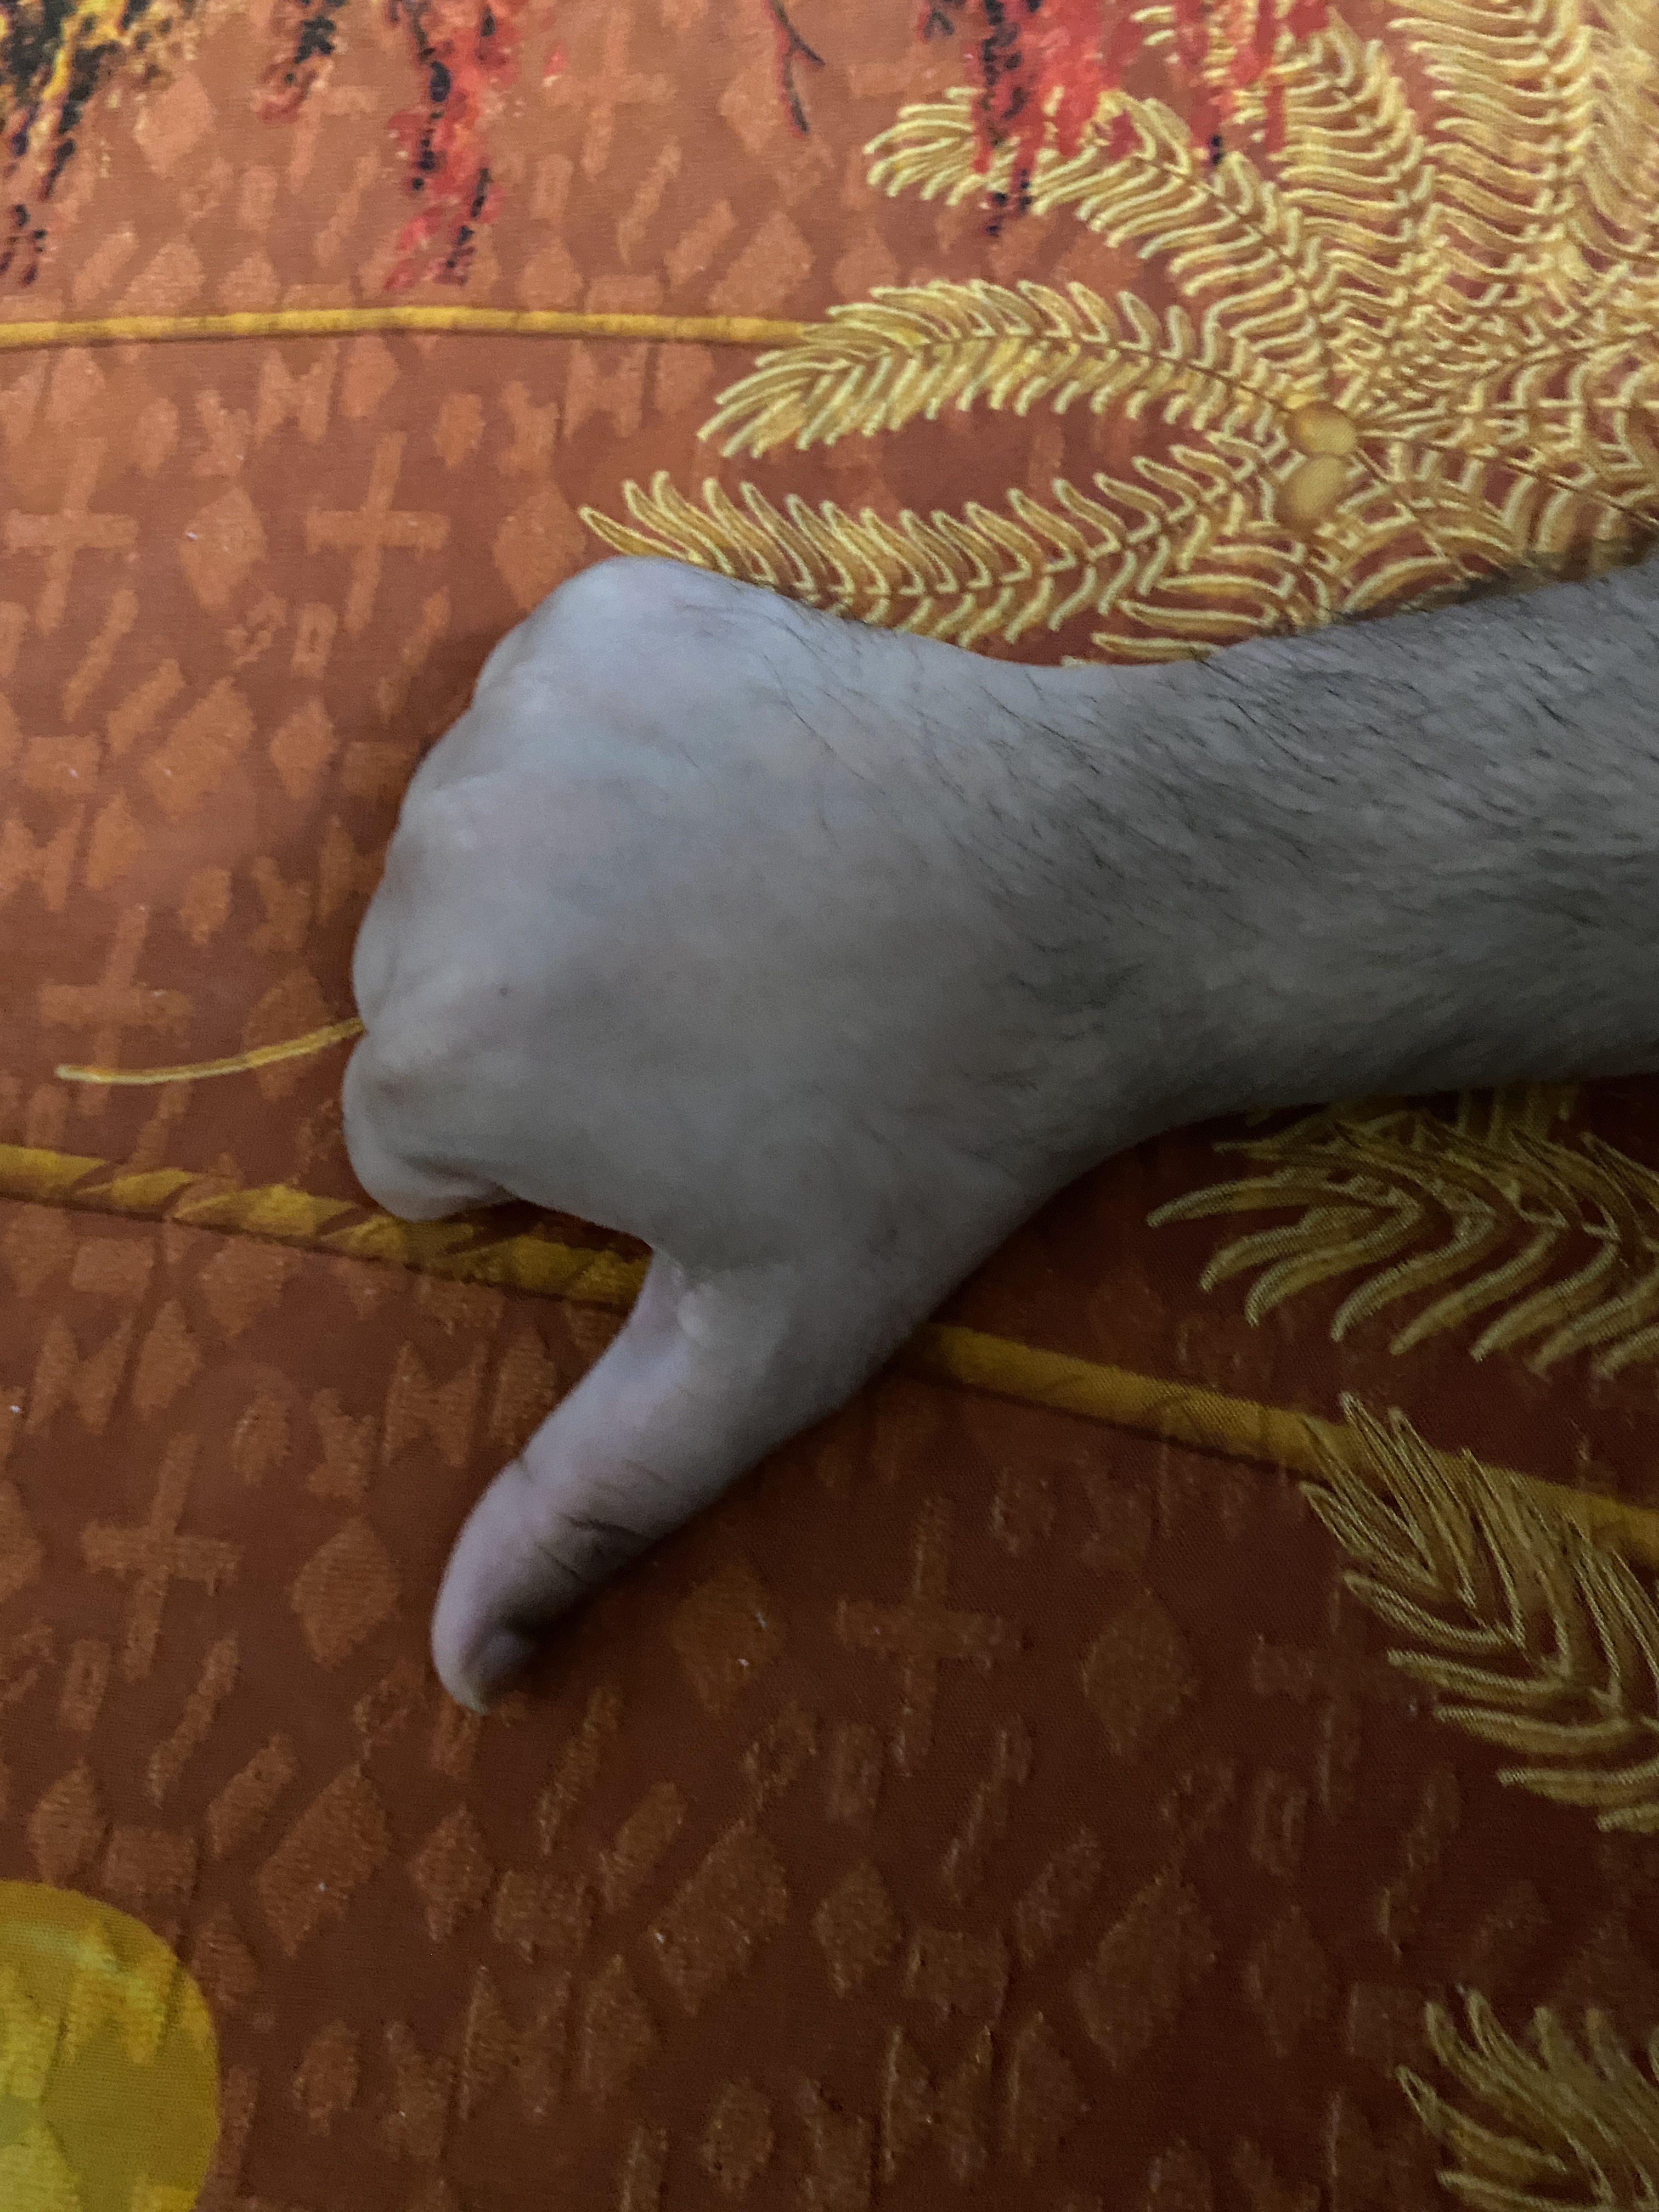down: (91, 329, 1659, 1780)
